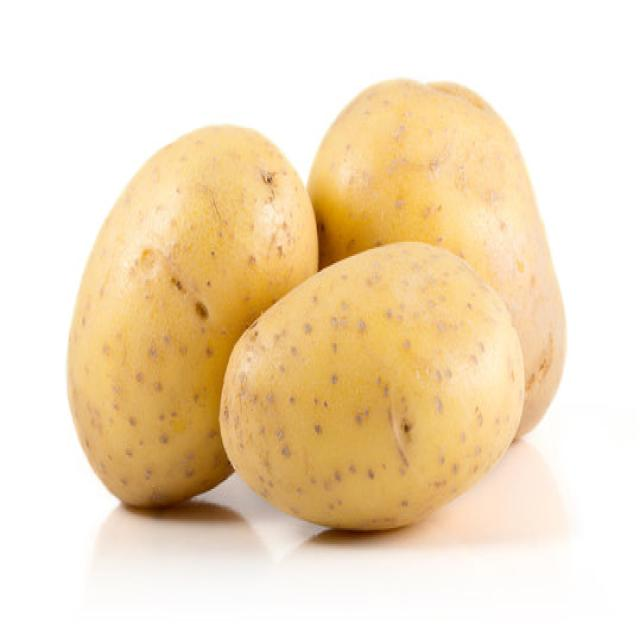Potato: (66, 121, 320, 508), (306, 75, 568, 439), (217, 238, 525, 532)
